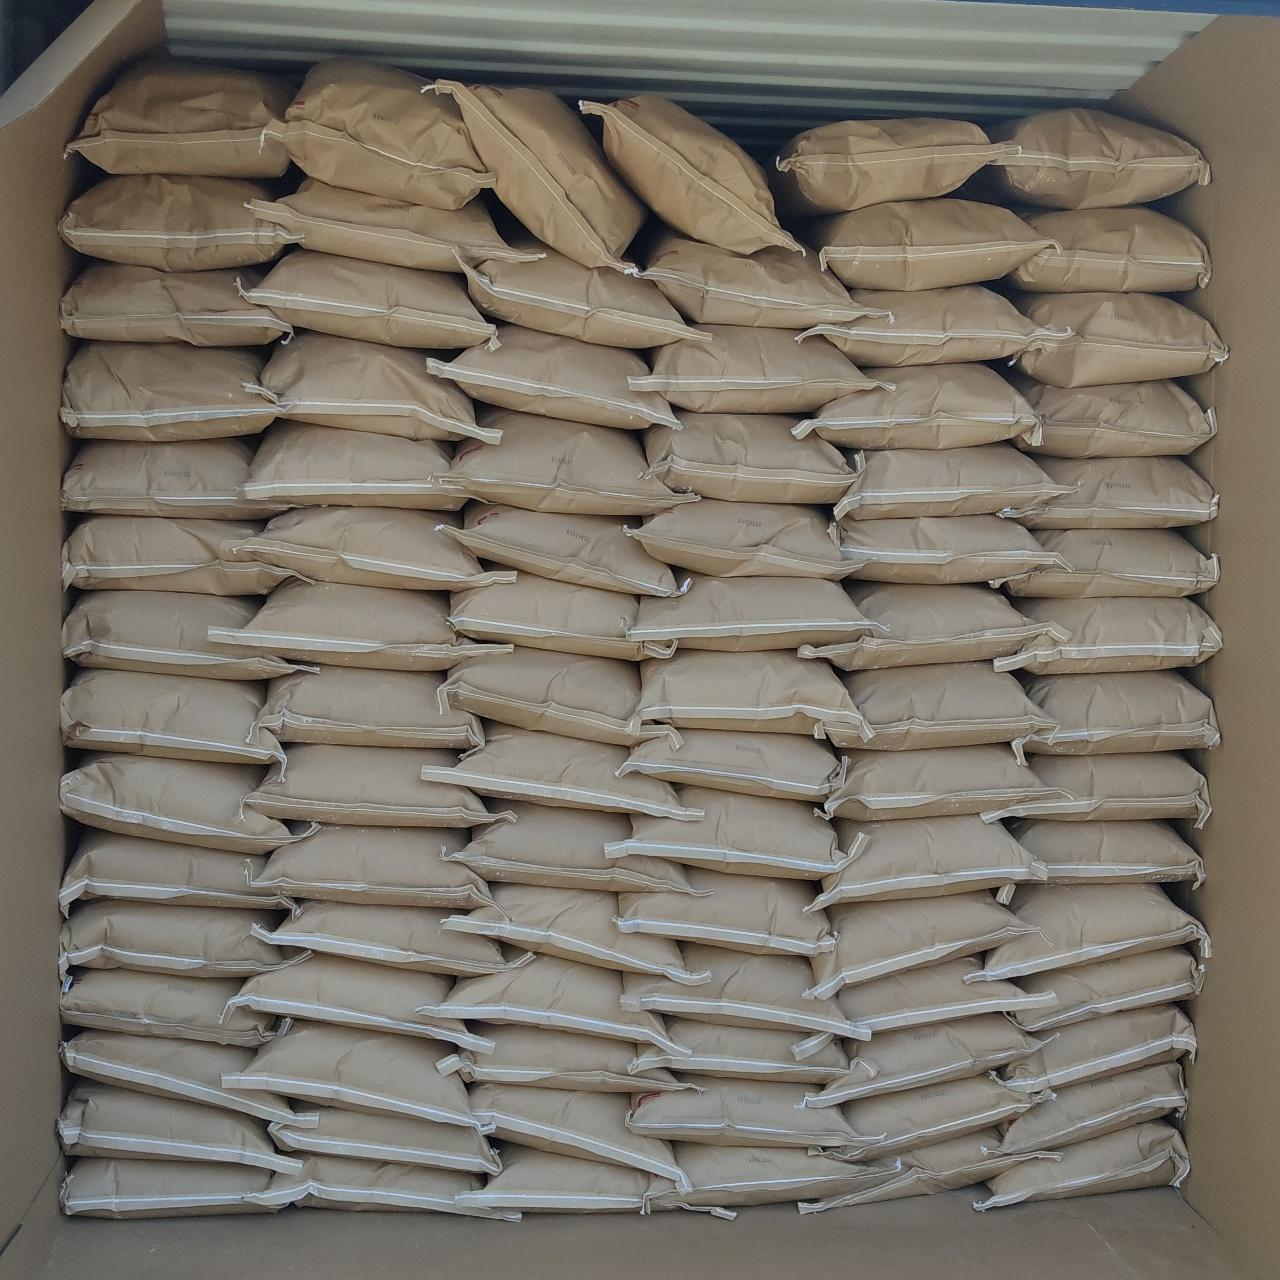sack: (432, 82, 644, 262), (586, 96, 798, 252), (272, 60, 494, 206), (244, 332, 494, 438), (252, 178, 540, 270), (62, 752, 318, 854), (428, 722, 694, 820), (68, 58, 292, 174), (212, 582, 508, 668), (232, 1020, 476, 1124), (430, 326, 676, 428), (450, 408, 686, 514), (446, 884, 700, 982), (246, 250, 494, 350), (804, 892, 1036, 998), (420, 952, 670, 1046), (446, 800, 692, 894), (968, 110, 1208, 206), (608, 786, 858, 878), (620, 946, 870, 1038), (466, 250, 700, 348), (626, 230, 862, 326), (232, 506, 500, 590), (232, 952, 476, 1044), (800, 584, 1066, 668), (64, 590, 316, 678), (634, 326, 890, 412), (776, 120, 1014, 212), (448, 504, 684, 596), (60, 176, 290, 270), (440, 648, 668, 742), (810, 816, 1038, 910), (62, 668, 280, 766), (62, 1030, 298, 1120), (248, 744, 498, 828), (816, 198, 1052, 286), (474, 1084, 684, 1182), (806, 1016, 1038, 1104), (62, 344, 278, 438), (636, 650, 866, 738), (984, 884, 1208, 974), (796, 286, 1046, 366), (256, 900, 526, 974), (824, 662, 1054, 748), (796, 364, 1036, 446), (802, 1132, 1054, 1210), (448, 572, 670, 660), (256, 826, 488, 910), (60, 1082, 292, 1166), (1010, 292, 1226, 382), (244, 422, 464, 510), (816, 1076, 1052, 1158), (630, 574, 882, 650), (64, 516, 308, 594), (618, 868, 832, 956), (62, 900, 306, 976), (646, 414, 856, 502), (60, 830, 290, 910), (262, 666, 480, 750), (64, 436, 286, 518), (62, 262, 288, 342), (976, 1122, 1186, 1206), (60, 968, 284, 1046), (820, 744, 1048, 820), (630, 500, 852, 578), (1010, 206, 1210, 292), (436, 1022, 681, 1092), (252, 1156, 518, 1220), (834, 444, 1056, 520), (996, 1062, 1184, 1150), (834, 958, 1046, 1036), (616, 730, 844, 802), (996, 598, 1222, 670), (270, 1104, 500, 1174), (1012, 672, 1218, 750), (982, 754, 1210, 824), (998, 1006, 1194, 1086), (1010, 948, 1200, 1030), (628, 1076, 854, 1144), (1002, 456, 1218, 526), (630, 1018, 866, 1082), (648, 1144, 884, 1208), (834, 516, 1060, 582), (460, 1144, 672, 1214), (994, 530, 1218, 596), (1016, 380, 1214, 454), (1006, 820, 1204, 886), (62, 1158, 286, 1216)
